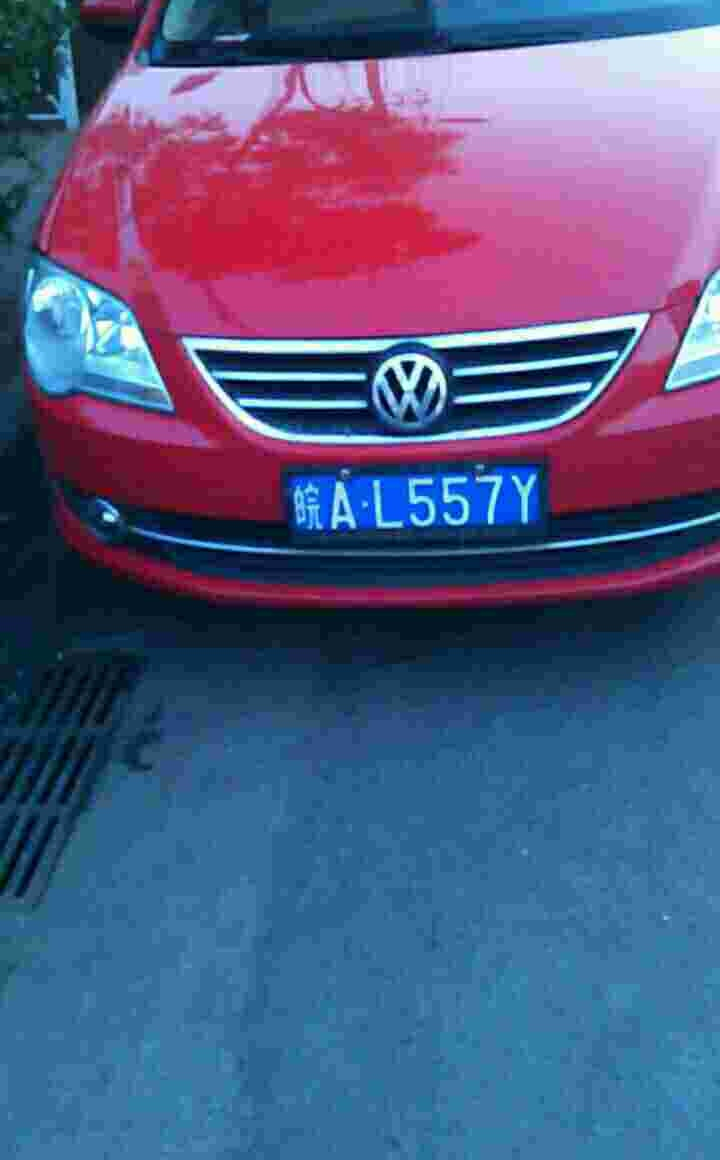plate: (285, 459, 554, 541)
